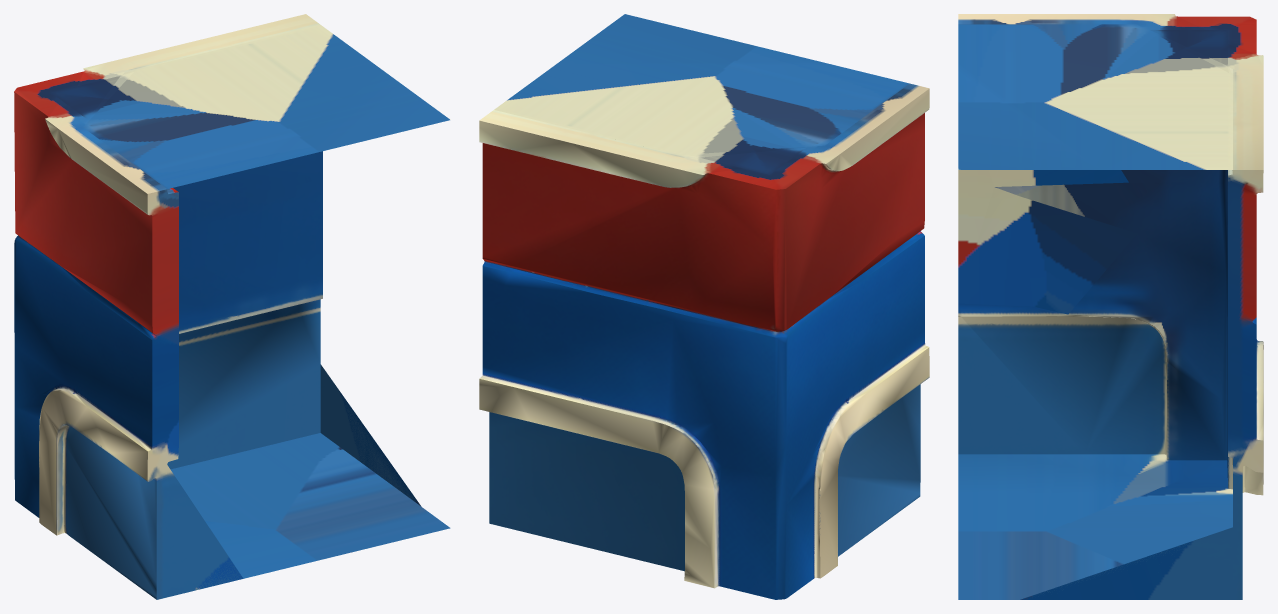
The model's file is 7-upper-walls-back-left.fbx.
3 renders of one model, left to right at view 1: azimuth 30°, elevation 25°; view 2: azimuth 150°, elevation 25°; view 3: azimuth 270°, elevation 25°, orthographic. The views are drawn at different scales.
Parts seen in each view (by area): view 1: upper-walls-back-left; view 2: upper-walls-back-left; view 3: upper-walls-back-left.
Boxes of the visible parts, left/top/right/bottom form: upper-walls-back-left: left=14, top=14, right=450, bottom=599; upper-walls-back-left: left=479, top=14, right=929, bottom=599; upper-walls-back-left: left=958, top=14, right=1263, bottom=599.
Bounding box in the file's own units: 4685 × 6025 × 3877.
Materials: 1 (1 with a texture image).
